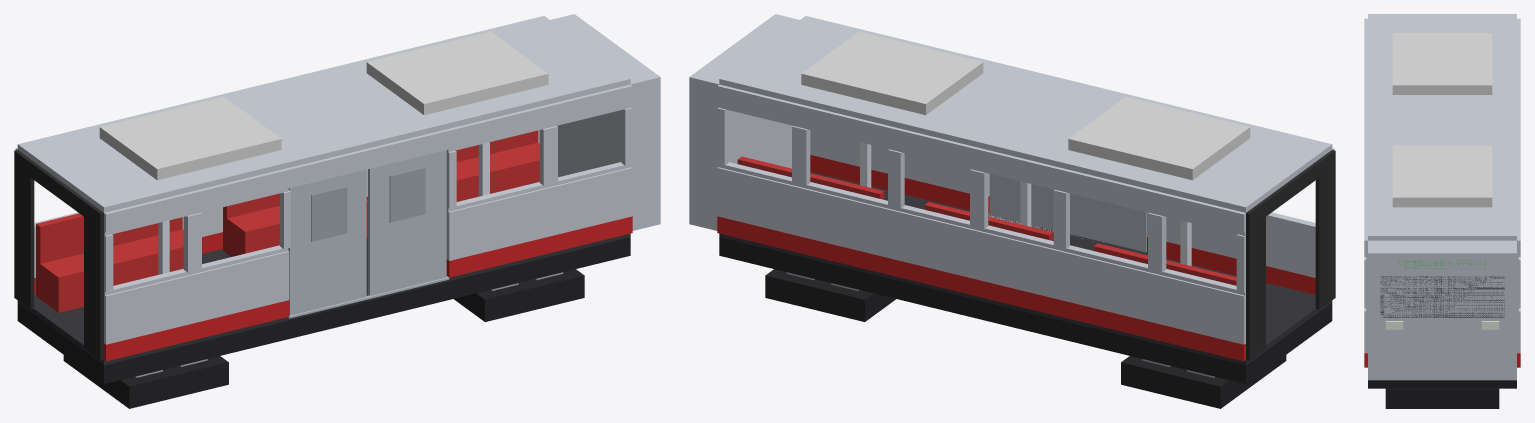
Rendered from metro_wagon_lead_closed_l3.obj.
3 renders of one model, left to right at view 1: azimuth 30°, elevation 25°; view 2: azimuth 150°, elevation 25°; view 3: azimuth 270°, elevation 25°, orthographic. The views are drawn at different scales.
Bounding box in the file's own units: 3.16 × 1.26 × 0.88.
